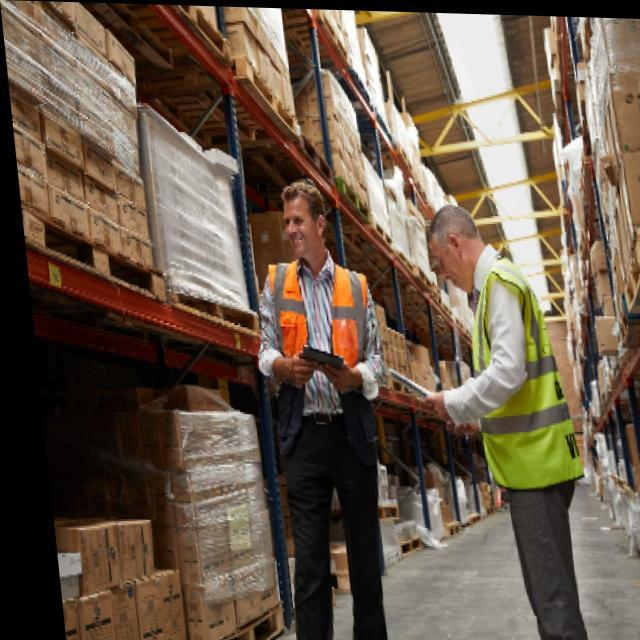vest: (454, 254, 587, 495), (261, 261, 387, 452)
